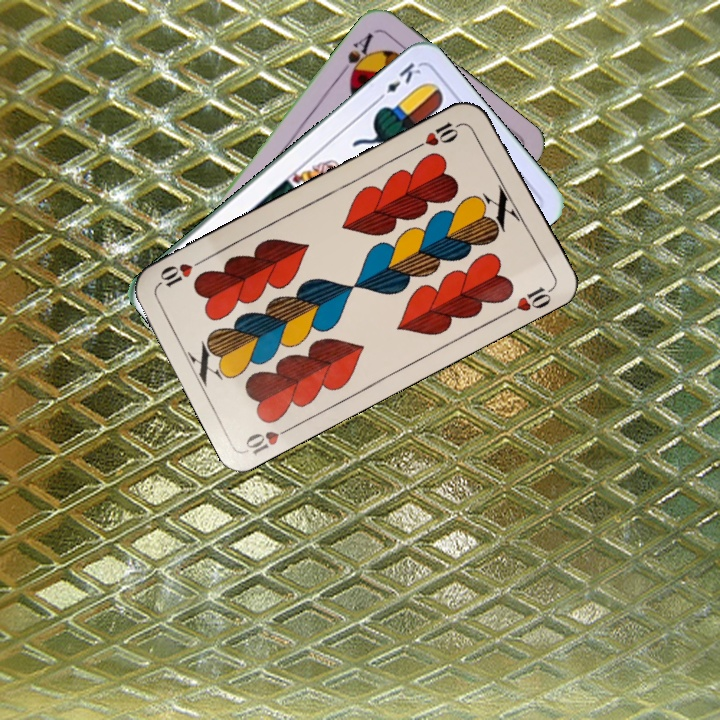EK: (372, 58, 423, 105)
H10: (241, 421, 298, 458), (411, 118, 467, 152)
SA: (335, 29, 377, 84)
